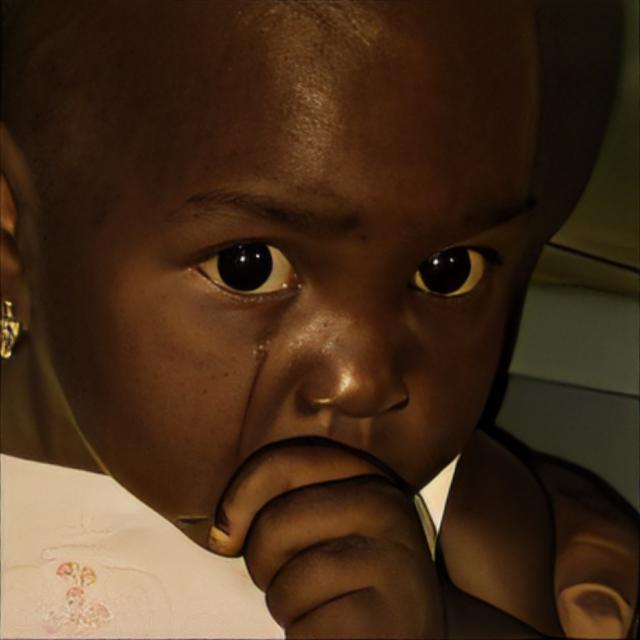disgust: (32, 0, 545, 559)
